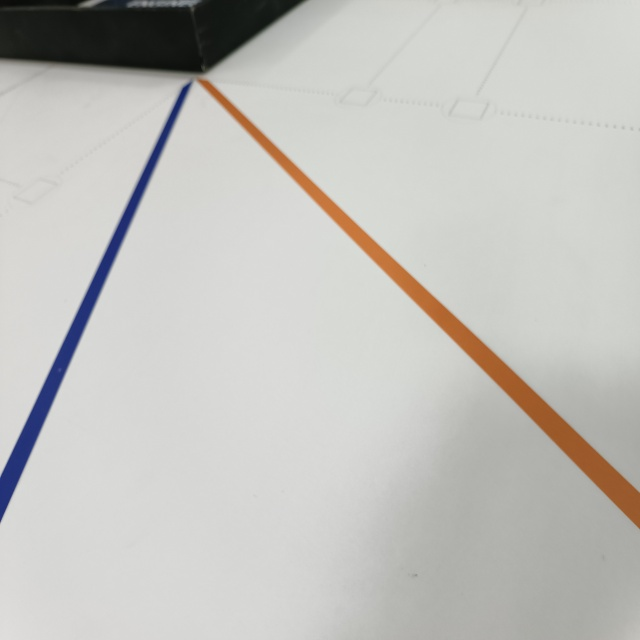blue line: (3, 76, 194, 529)
orange line: (197, 77, 640, 536)
